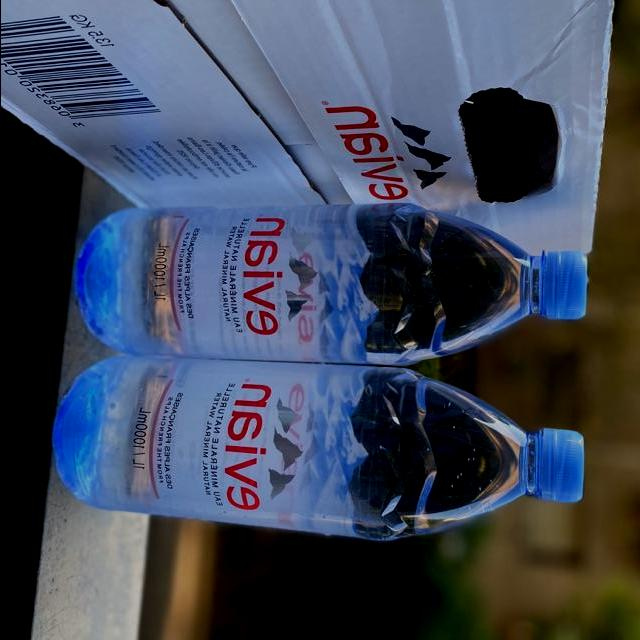bottle: (51, 353, 584, 541), (68, 202, 581, 371)
